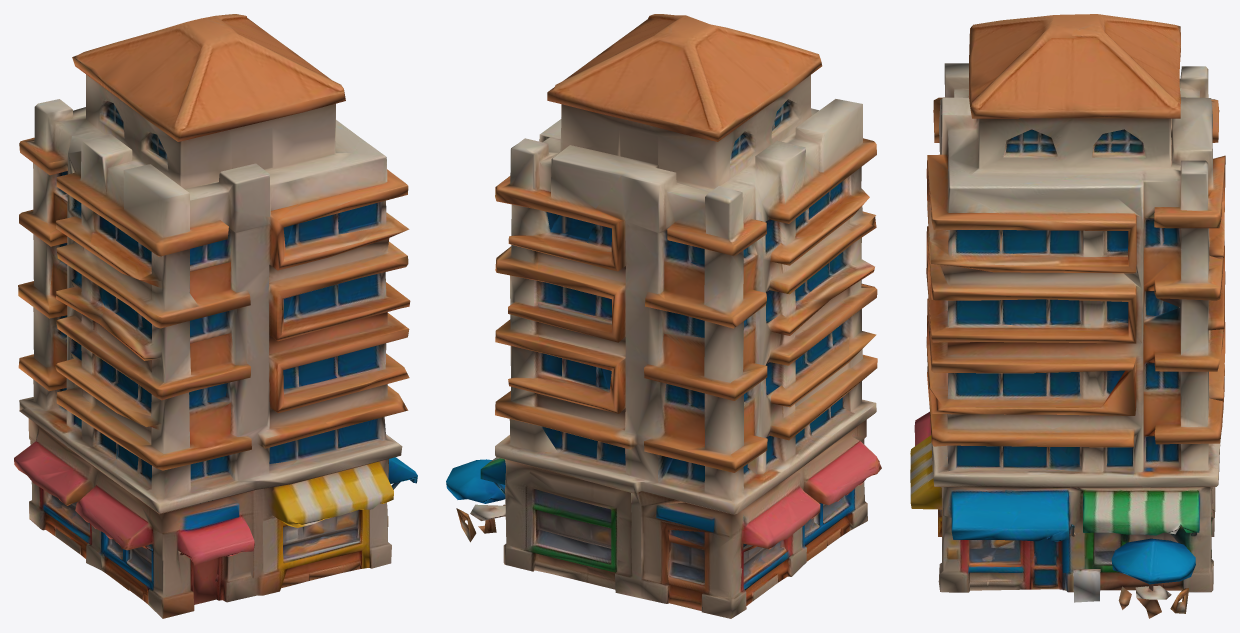
File: CenarioClassico.glb
3 renders of one model, left to right at view 1: azimuth 30°, elevation 25°; view 2: azimuth 150°, elevation 25°; view 3: azimuth 270°, elevation 25°, orthographic.
Visible parts, largest first — view 1: tripo_node_25a09392-4d20-4e15-9d14-e63a9da83023; view 2: tripo_node_25a09392-4d20-4e15-9d14-e63a9da83023; view 3: tripo_node_25a09392-4d20-4e15-9d14-e63a9da83023.
Boxes of the visible parts, x1,y1,x2,y2 form: tripo_node_25a09392-4d20-4e15-9d14-e63a9da83023: (14,14,417,618); tripo_node_25a09392-4d20-4e15-9d14-e63a9da83023: (446,14,881,618); tripo_node_25a09392-4d20-4e15-9d14-e63a9da83023: (910,14,1225,618).
Bounding box in the file's own units: 1.7 × 2.5 × 1.38.
Materials: 1 (1 with a texture image).
